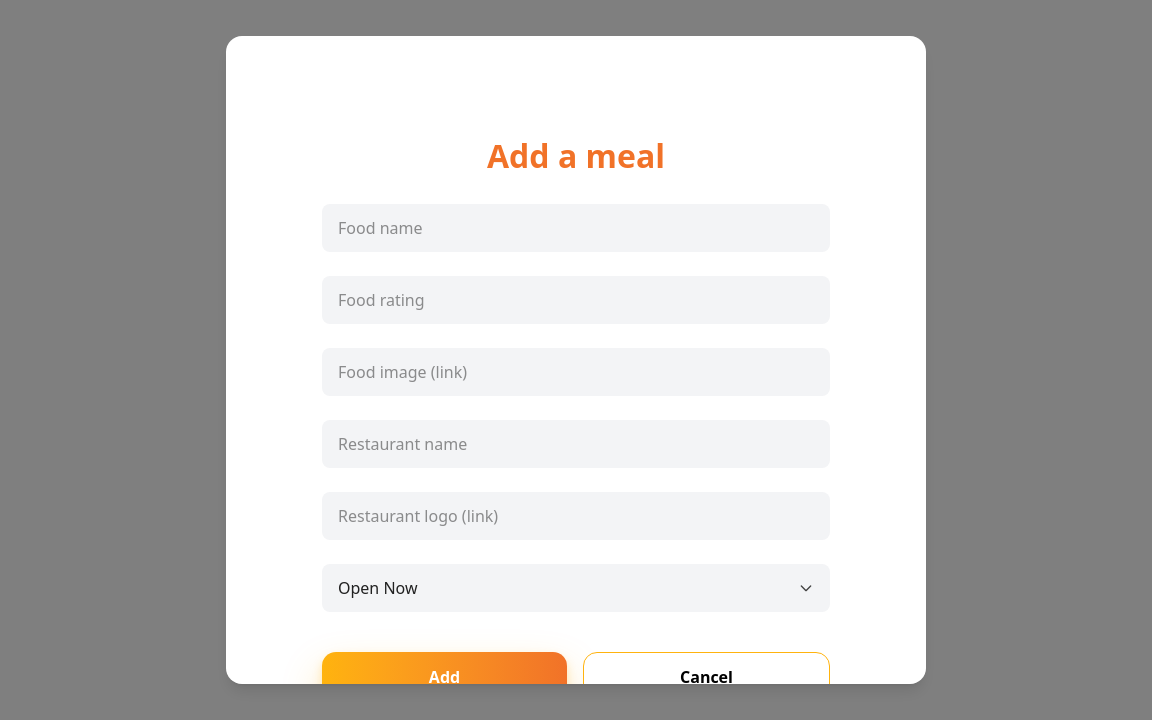
Test: FoodModal Component › User Interaction › should show validation errors for empty required fields
Click the button "Add" at (444, 677), box [322,652,567,702]
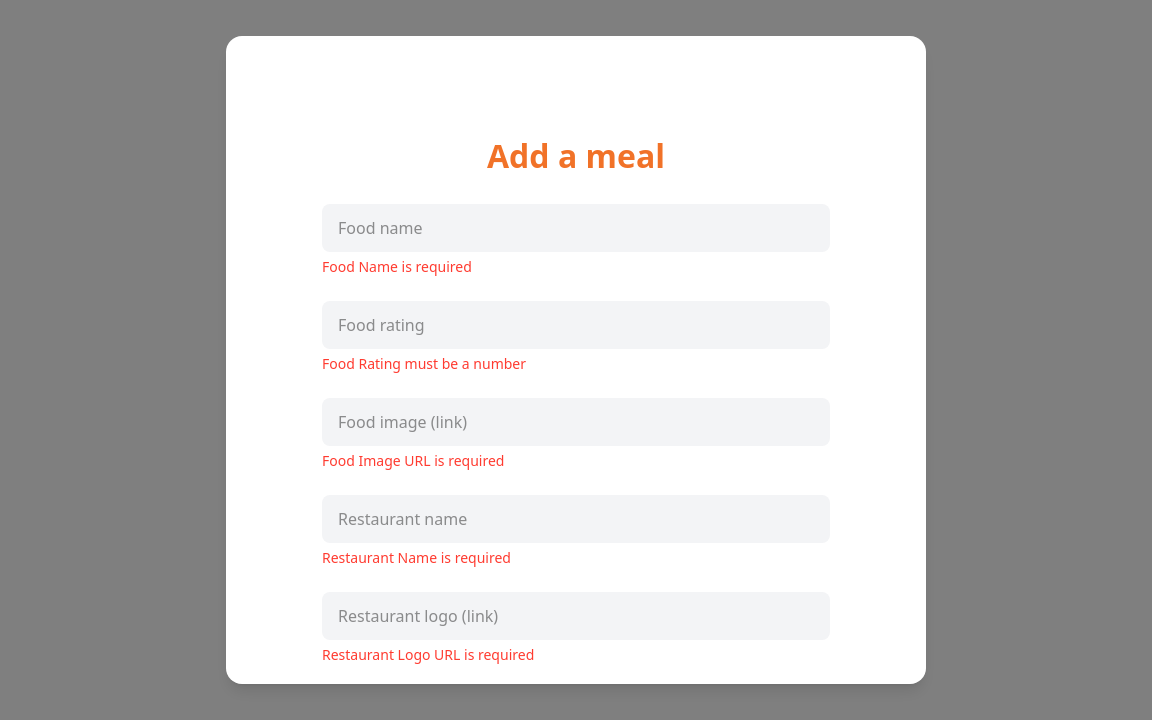
Result: the text "Food Name is required" is shown at [322,257,472,276]
Result: the text "Food Image URL is required" is shown at [322,451,504,470]
Result: the text "Restaurant Name is required" is shown at [322,548,511,567]
